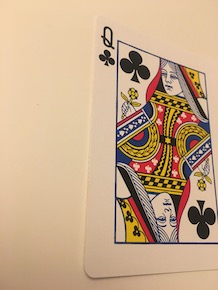QueenOfClubs: (80, 15, 217, 278)
